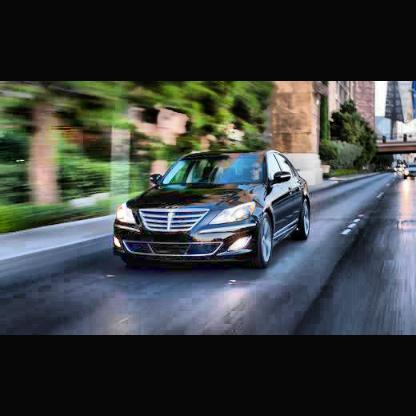Hyundai Genesis Sedan 2012: (116, 152, 313, 271)
